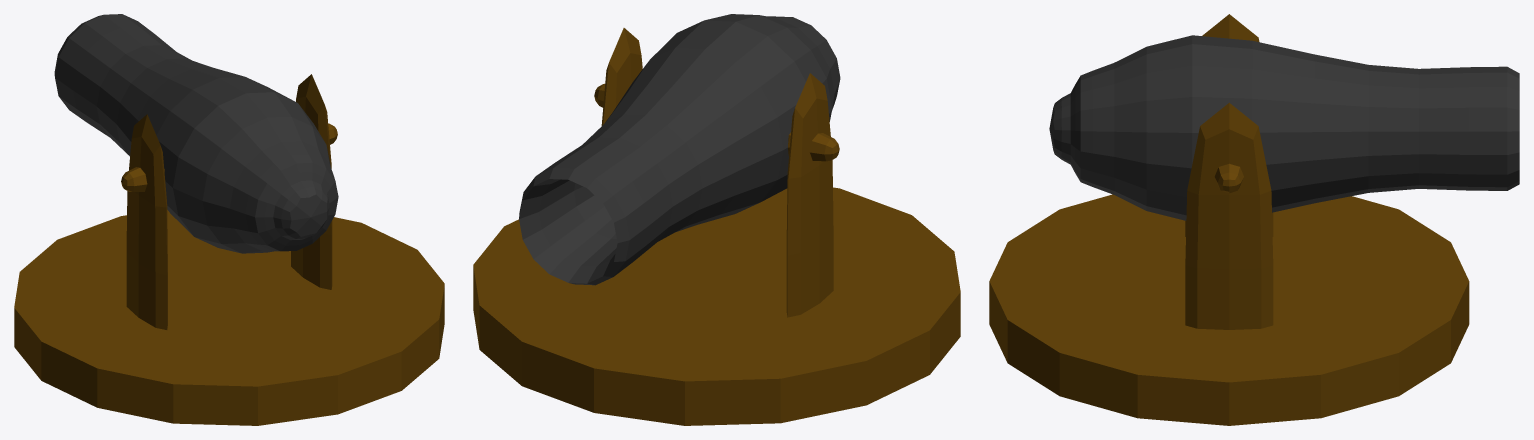
Rendered from cannon.gltf.
The picture shows the model from 3 angles, left to right: view 1: azimuth 30°, elevation 25°; view 2: azimuth 150°, elevation 25°; view 3: azimuth 270°, elevation 25°; orthographic projection. The views are drawn at different scales.
Visible parts, largest first — view 1: Base, CannonBody; view 2: Base, CannonBody; view 3: Base, CannonBody.
Part boxes in pixels (<box>): Base: <box>14,74,444,425</box>; CannonBody: <box>54,14,338,253</box>; Base: <box>473,28,960,425</box>; CannonBody: <box>519,14,840,285</box>; Base: <box>989,14,1469,425</box>; CannonBody: <box>1049,35,1519,220</box>.
Size of the model in its own units: 2 by 1.29 by 2.21.
